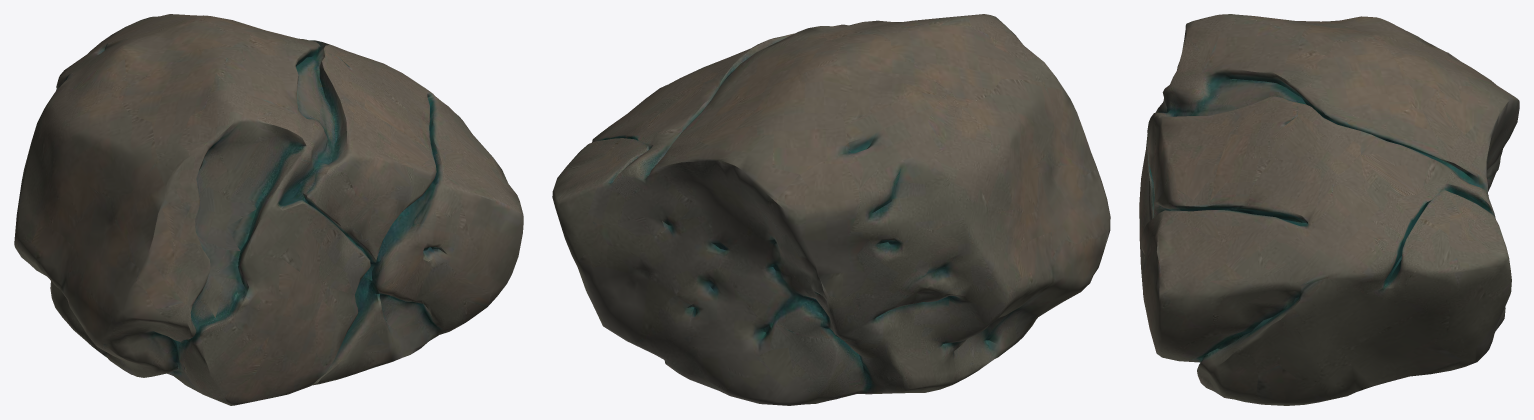
The model's file is resource_copper_ore_0.glb.
The picture shows the model from 3 angles, left to right: view 1: azimuth 30°, elevation 25°; view 2: azimuth 150°, elevation 25°; view 3: azimuth 270°, elevation 25°; orthographic projection. The views are drawn at different scales.
Parts seen in each view (by area): view 1: MeshyGear_resource_copper_ore; view 2: MeshyGear_resource_copper_ore; view 3: MeshyGear_resource_copper_ore.
Boxes of the visible parts, left/top/right/bottom form: MeshyGear_resource_copper_ore: left=14, top=14, right=523, bottom=405; MeshyGear_resource_copper_ore: left=552, top=14, right=1110, bottom=405; MeshyGear_resource_copper_ore: left=1139, top=14, right=1519, bottom=405.
Size of what is drawn, in the model's own units: 2 by 1.37 by 1.68.
Materials: 1 (1 with a texture image).
